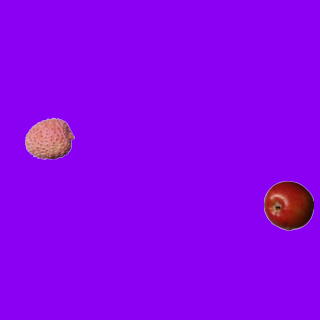Apple Braeburn: (263, 180, 313, 230)
Lychee: (24, 113, 74, 163)
